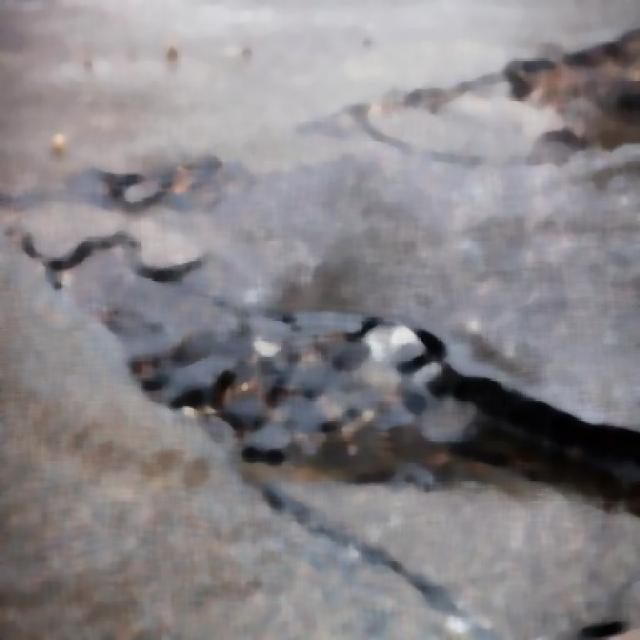Pothole: (74, 233, 640, 524)
